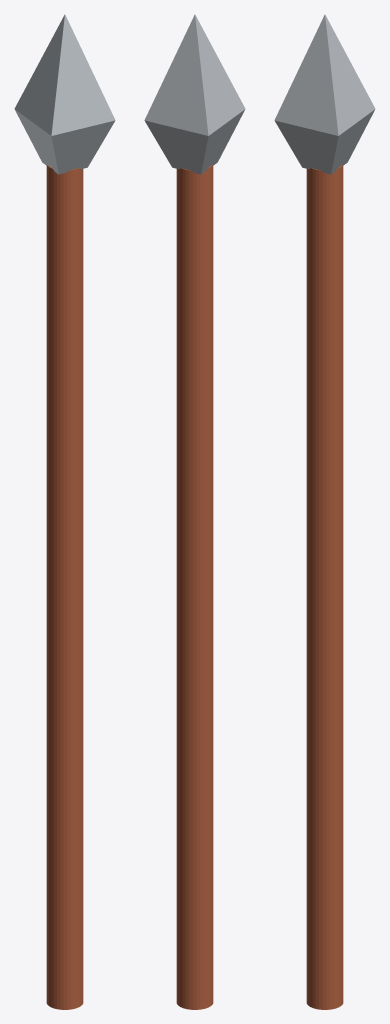
The model's file is Spear.fbx.
3 renders of one model, left to right at view 1: azimuth 30°, elevation 25°; view 2: azimuth 150°, elevation 25°; view 3: azimuth 330°, elevation 25°, orthographic.
Visible parts, largest first — view 1: Cylinder, Cube; view 2: Cylinder, Cube; view 3: Cylinder, Cube.
Part boxes in pixels (x1=…): Cylinder: x1=46, y1=165, x2=83, y2=1009; Cube: x1=14, y1=14, x2=115, y2=174; Cylinder: x1=176, y1=165, x2=213, y2=1009; Cube: x1=144, y1=14, x2=245, y2=174; Cylinder: x1=306, y1=165, x2=343, y2=1009; Cube: x1=274, y1=14, x2=375, y2=174.
Size of the model in its own units: 20 by 294 by 20.
